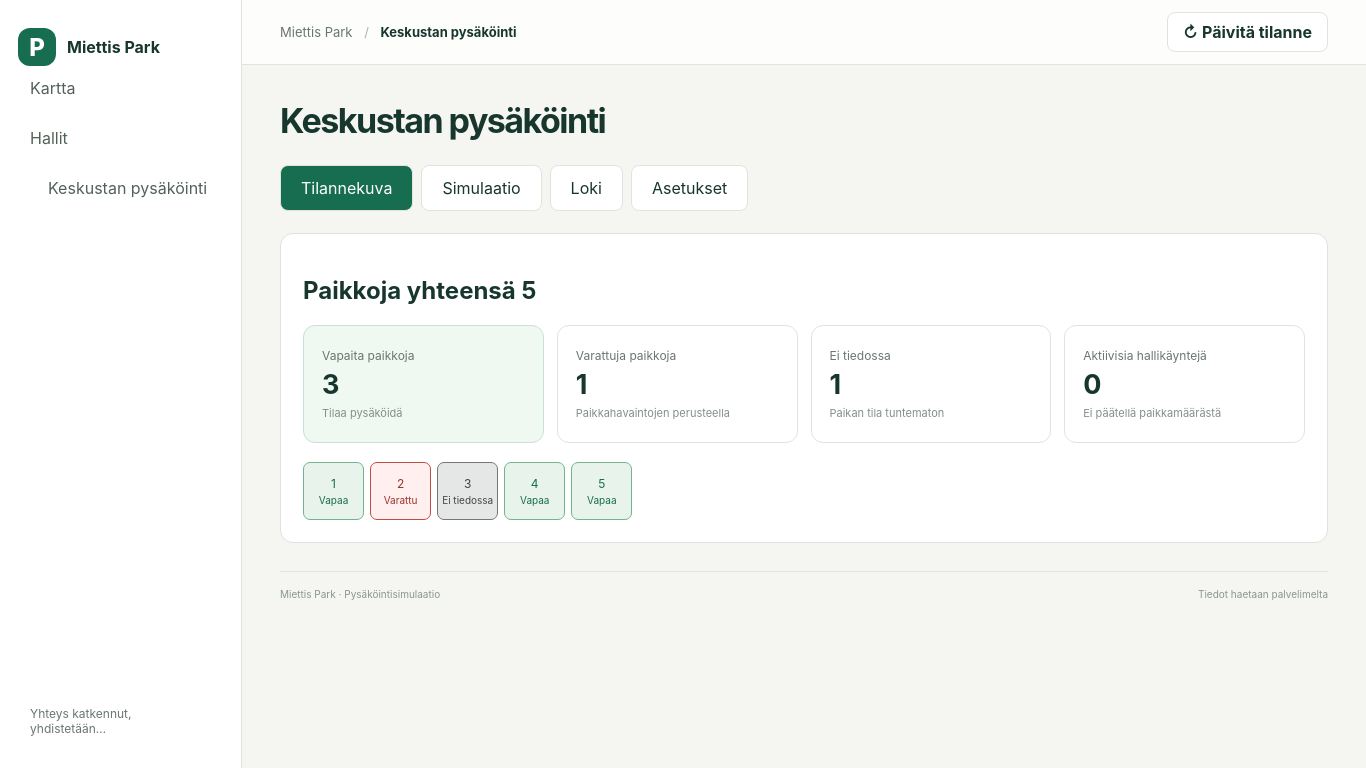
Test: shows an already parked car conflict as a toast without gate wording or duplicate inline error
Click the tab with id "tab-simulation": (482, 188) x1=421 y1=165 x2=542 y2=211
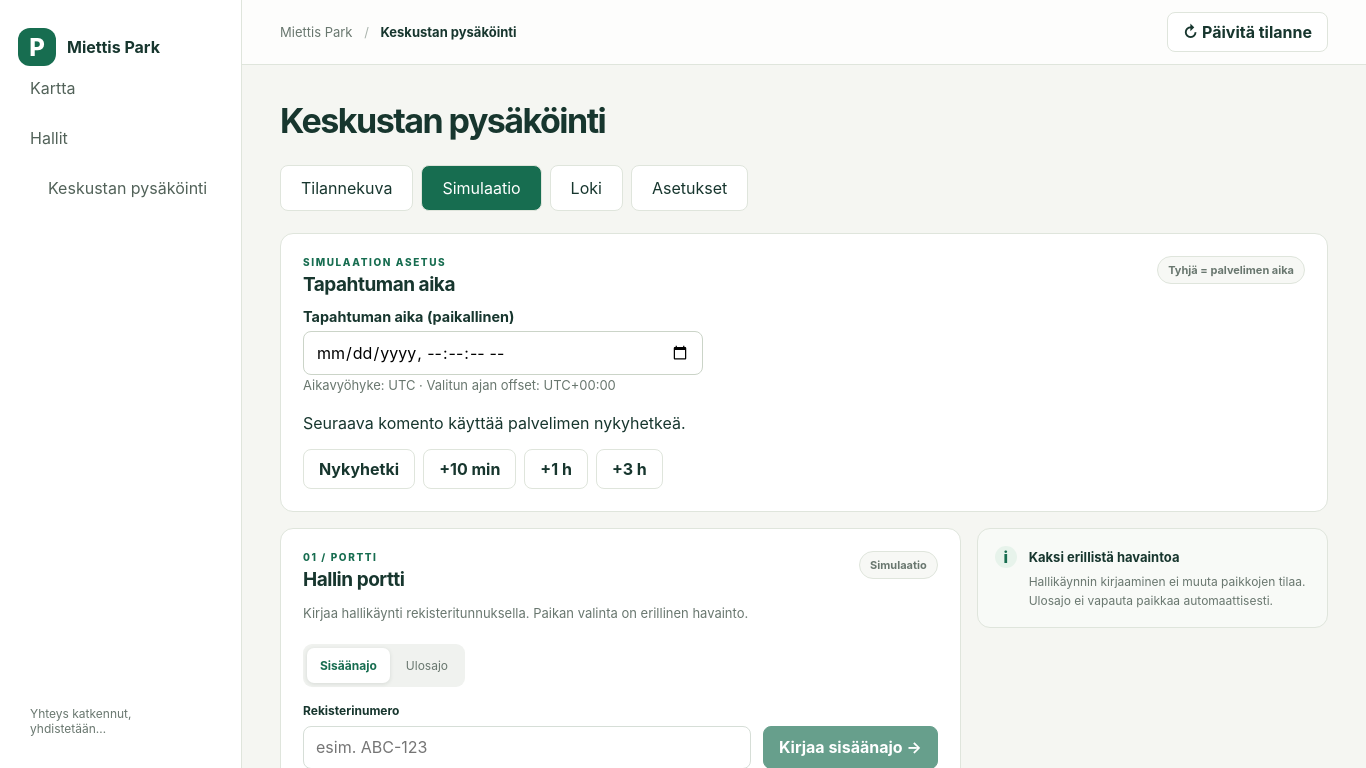
Click the tab with id "tab-simulation": (482, 188) x1=421 y1=165 x2=542 y2=211
(page scrolled)
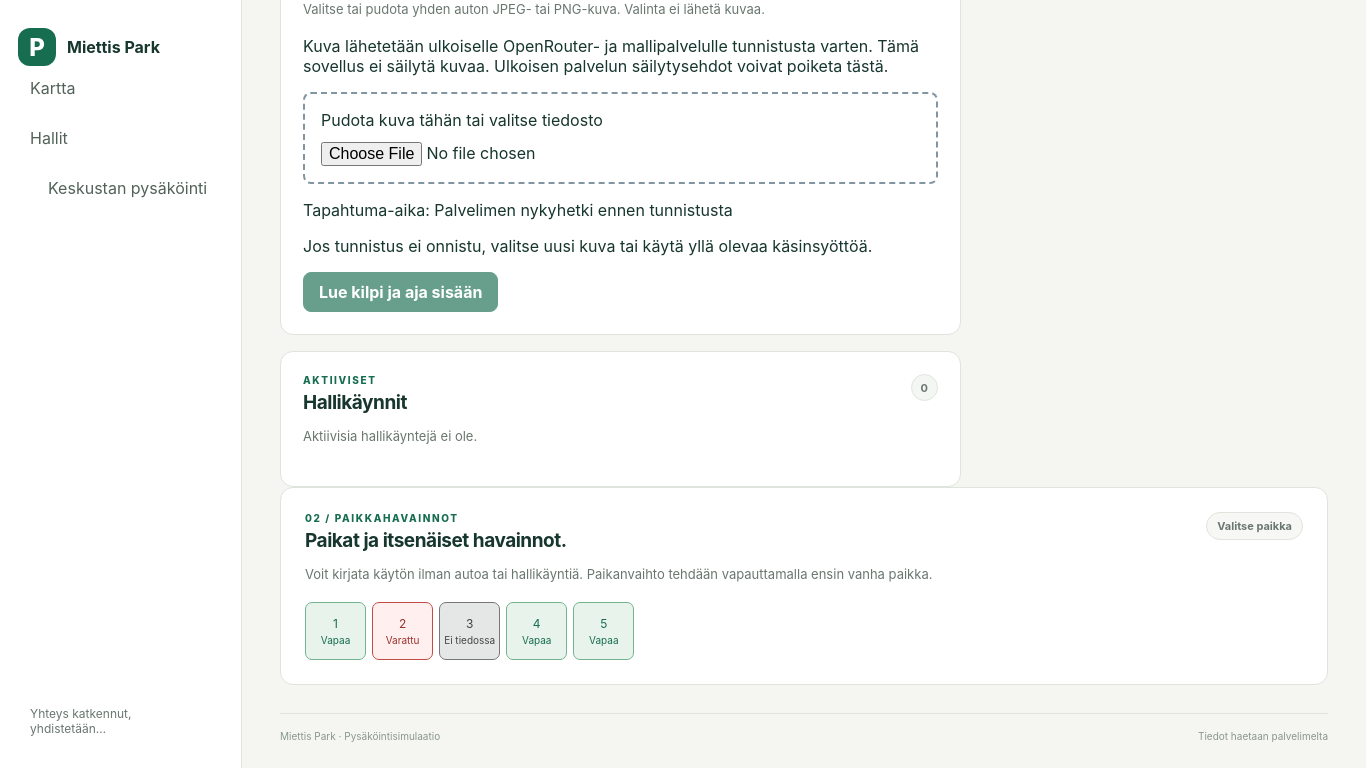
Click the cell "1 Vapaa": (336, 631) x1=305 y1=602 x2=366 y2=660
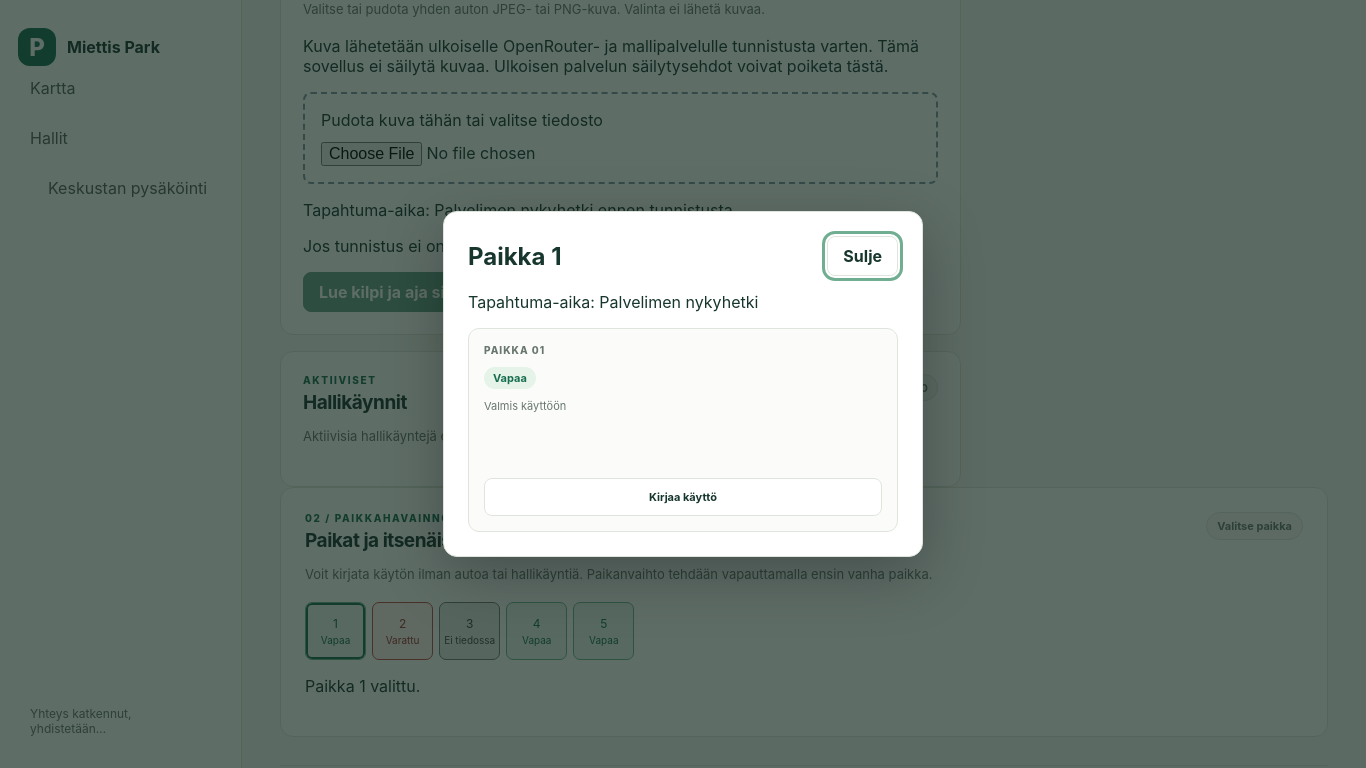
Click the button "Kirjaa käyttö": (683, 497) x1=484 y1=478 x2=882 y2=516
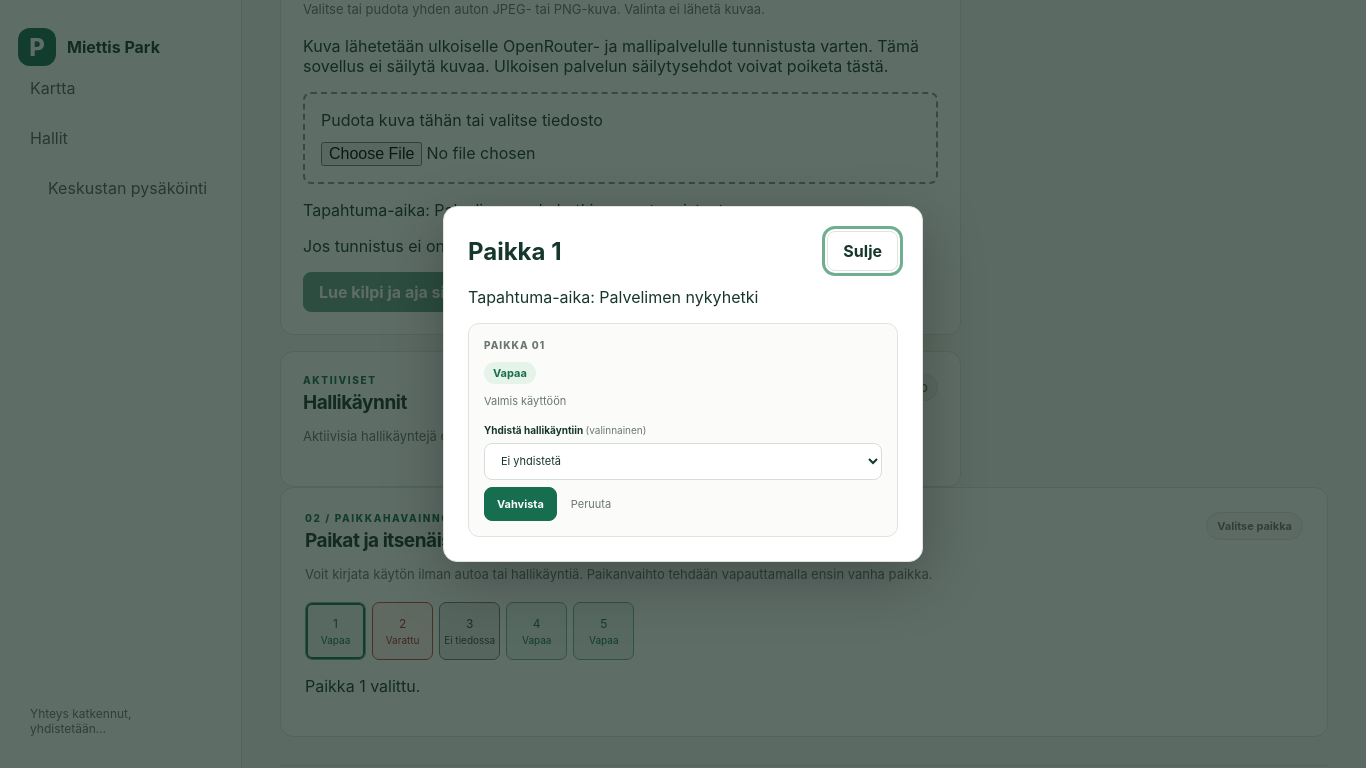
Submit the form with class "lot-entry-form", box x1=484 y1=424 x2=882 y2=521
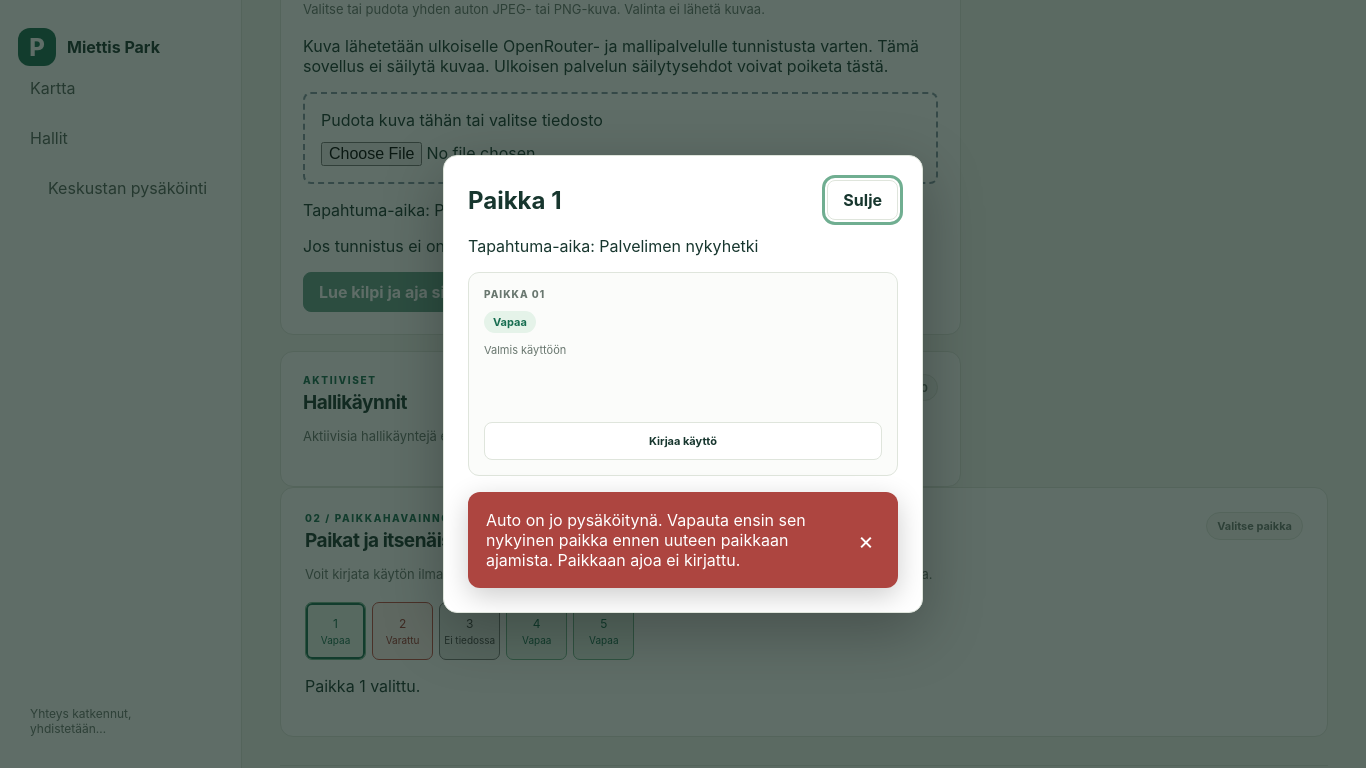
Expected: the message with class "error-toast" shows "Auto on jo pysäköitynä", x1=486 y1=510 x2=806 y2=570
Expected: the message with class "error-toast" shows "Paikkaan ajoa ei kirjattu", x1=486 y1=510 x2=806 y2=570
